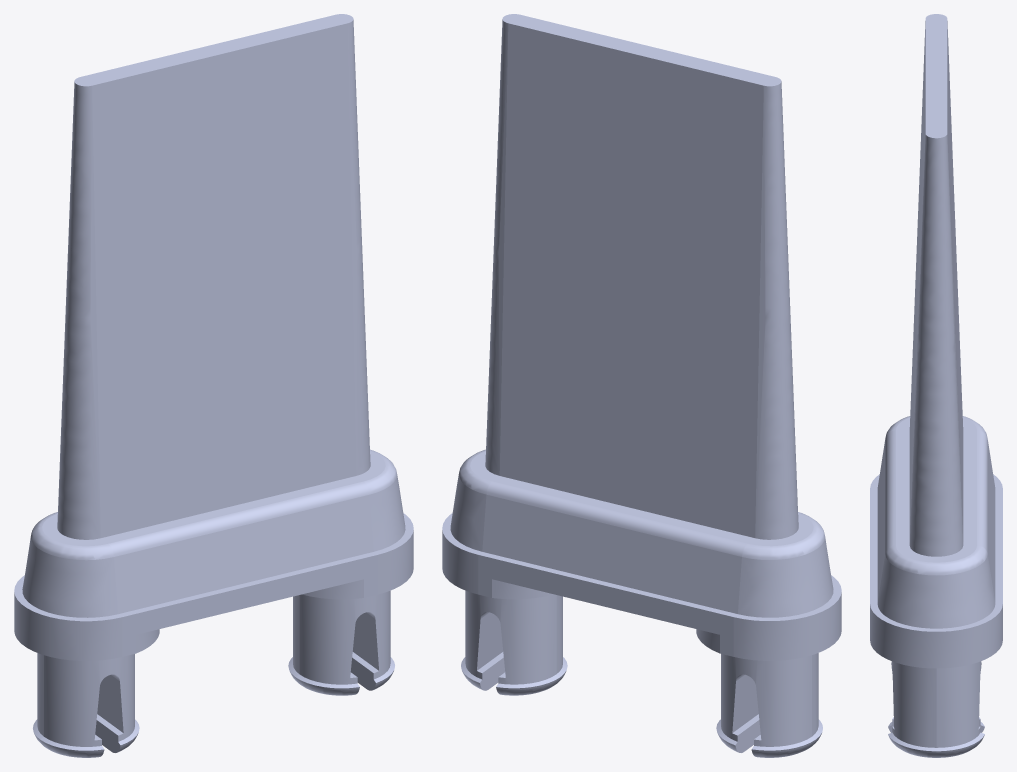
The model's file is Long Intake Flap (228-2500-242).glb.
3 renders of one model, left to right at view 1: azimuth 30°, elevation 25°; view 2: azimuth 150°, elevation 25°; view 3: azimuth 270°, elevation 25°, orthographic. The views are drawn at different scales.
Visible parts, largest first — view 1: Long Intake Flap (228-2500-242); view 2: Long Intake Flap (228-2500-242); view 3: Long Intake Flap (228-2500-242).
Boxes of the visible parts, box(x1,y1,x2,y2) form: Long Intake Flap (228-2500-242): box(14, 14, 413, 757); Long Intake Flap (228-2500-242): box(442, 14, 841, 757); Long Intake Flap (228-2500-242): box(870, 14, 1002, 757).
Bounding box in the file's own units: 0.7434 × 1.23 × 0.2441.
